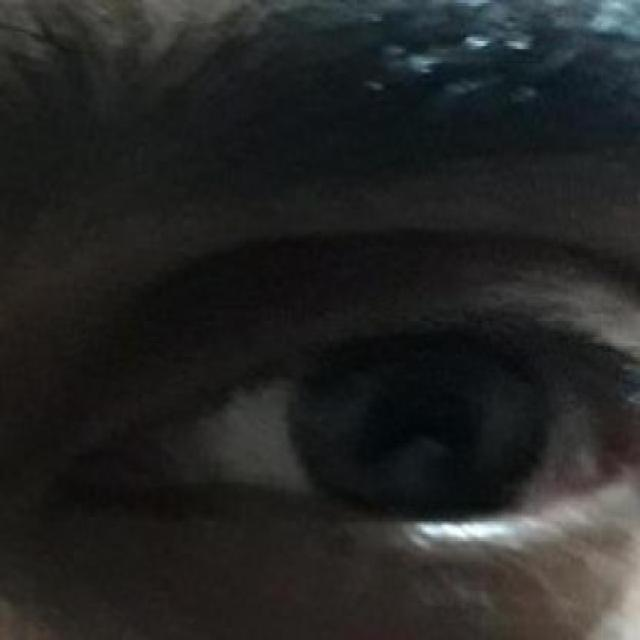awake: (51, 248, 637, 554)
